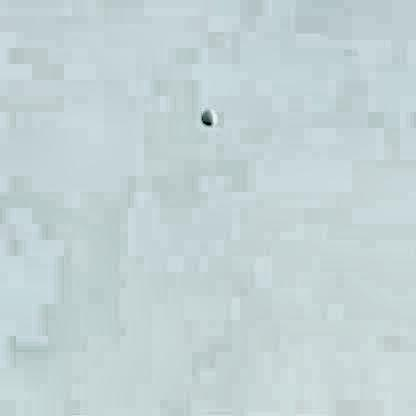golfball: (198, 108, 216, 126)
